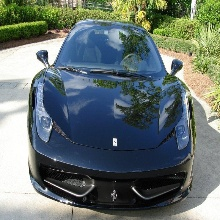no damage: (27, 19, 196, 210)
